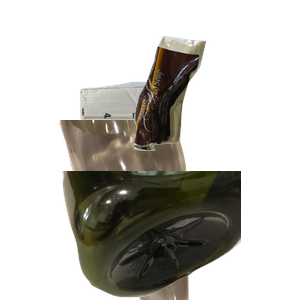cardboard: (77, 79, 251, 227)
glass: (56, 120, 241, 300)
plastic: (60, 171, 300, 300)
trash: (131, 34, 300, 177)
